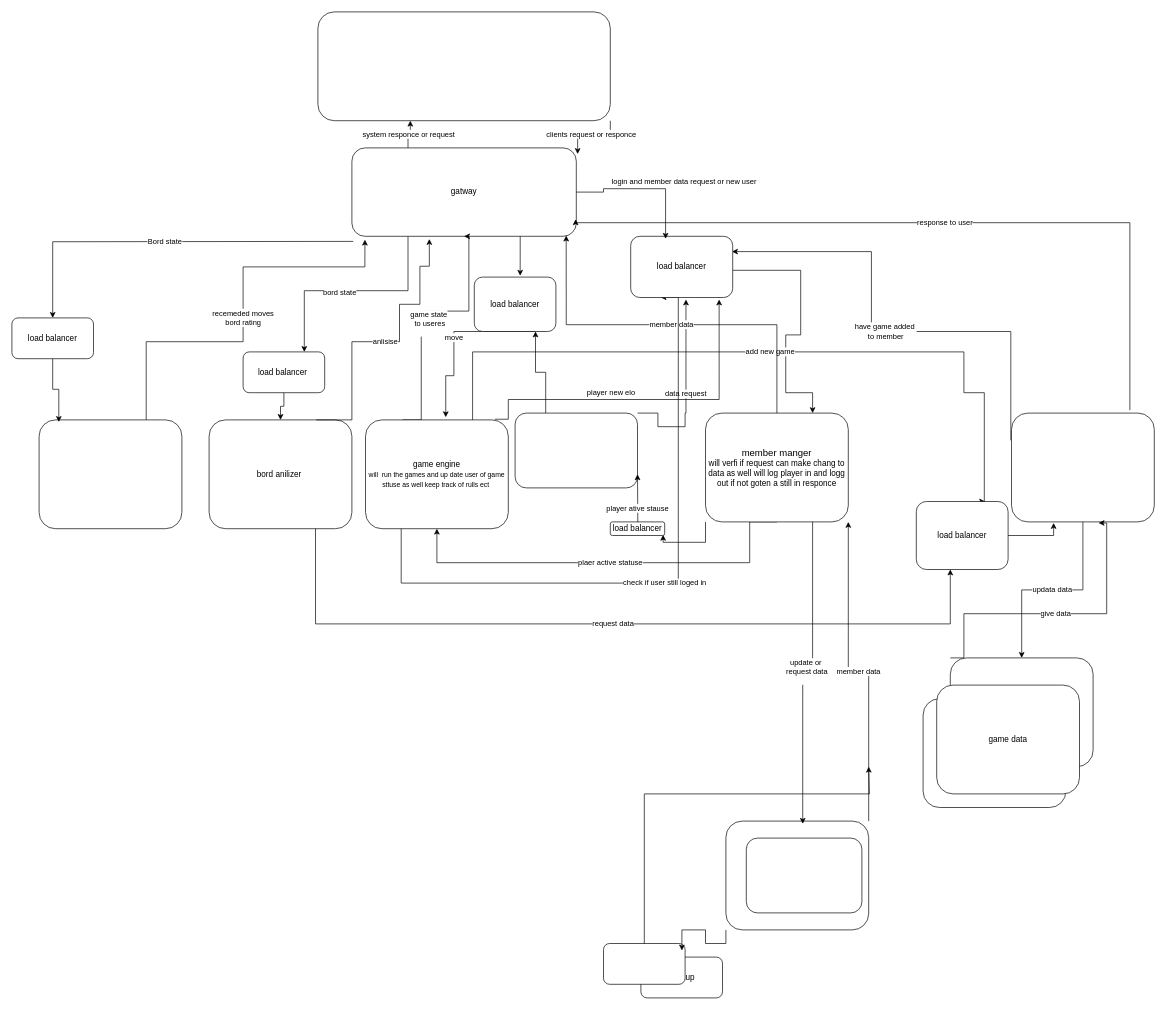
This 1166x1010 diagram has some shape labels left out. Here are the shapes that lost their labels. From the top down, the centre of each, then its label:
At point (463, 66): "cliants app".
At point (576, 450): "matchmaker will make matches of simaler elo".
At point (1082, 467): "game data manger".
At point (110, 474): "stockfish".
At point (804, 875): "user data".
At point (644, 963): "back up".
